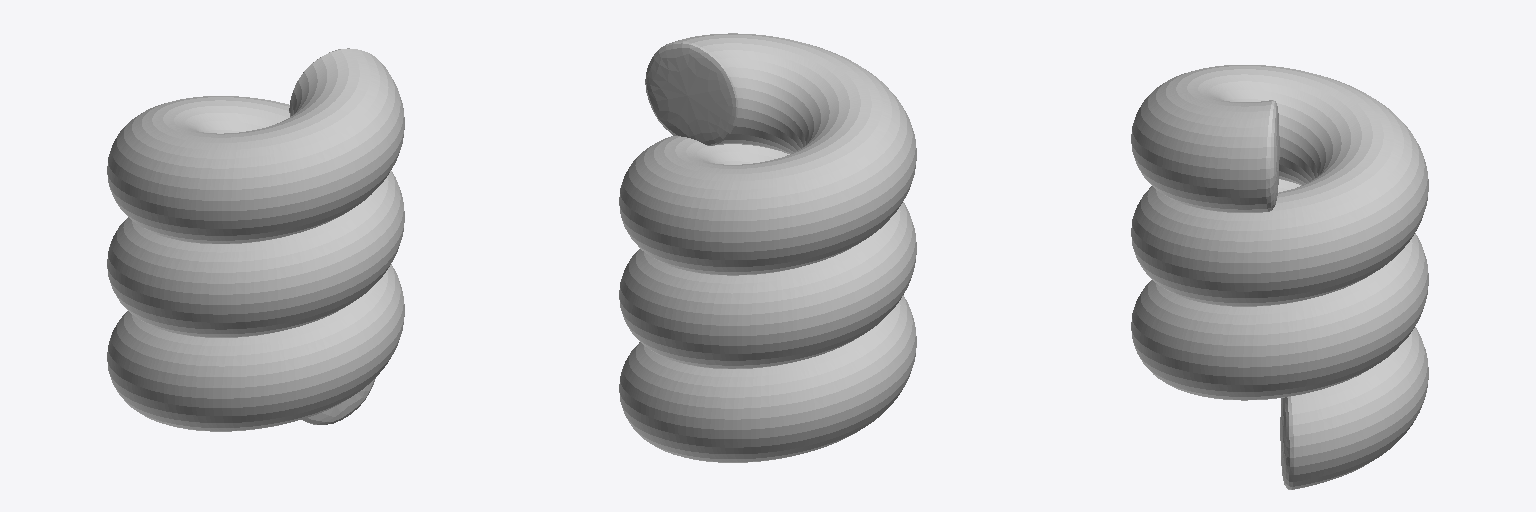
File: helix_22.5.obj
3 views of the same model, side by side, from view 1: azimuth 30°, elevation 25°; view 2: azimuth 150°, elevation 25°; view 3: azimuth 270°, elevation 25° (orthographic).
Visible parts, largest first — view 1: helix:pHelix1; view 2: helix:pHelix1; view 3: helix:pHelix1.
Boxes of the visible parts, x1,y1,x2,y2 form: helix:pHelix1: [107, 48, 404, 431]; helix:pHelix1: [619, 33, 916, 462]; helix:pHelix1: [1131, 65, 1428, 489].
Bounding box in the file's own units: 1.92 × 2.71 × 1.92.